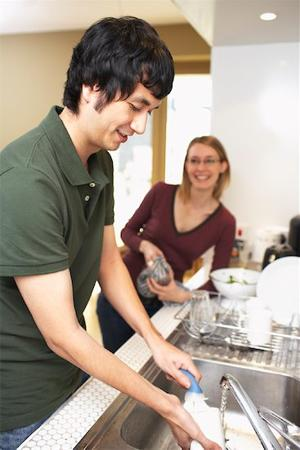person: (1, 13, 223, 450)
